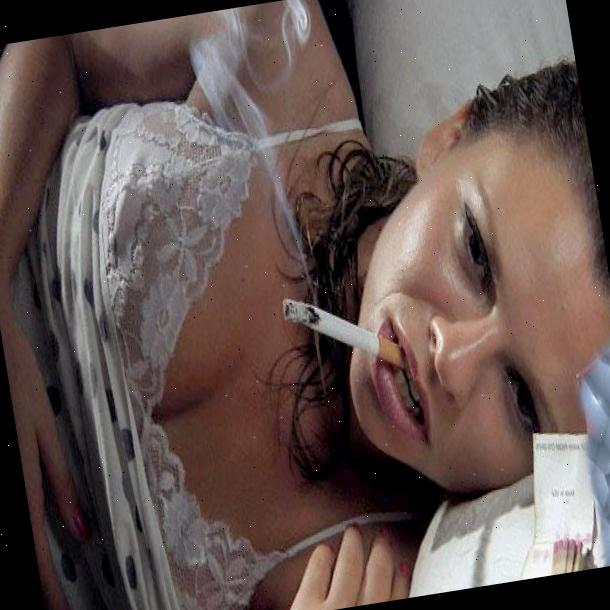smoke: (172, 1, 319, 134)
